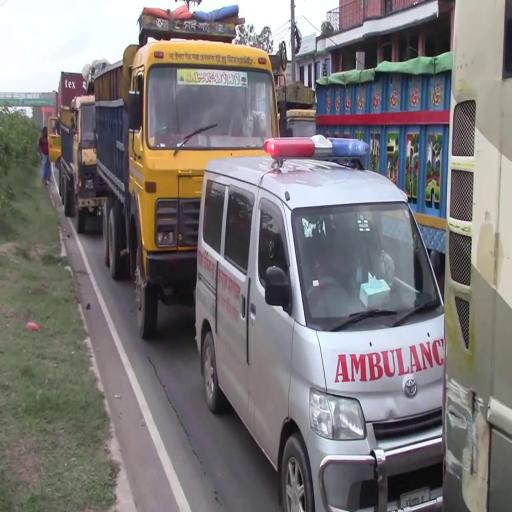ambulance: (195, 136, 443, 512)
truck: (94, 6, 192, 343), (61, 97, 94, 237)
